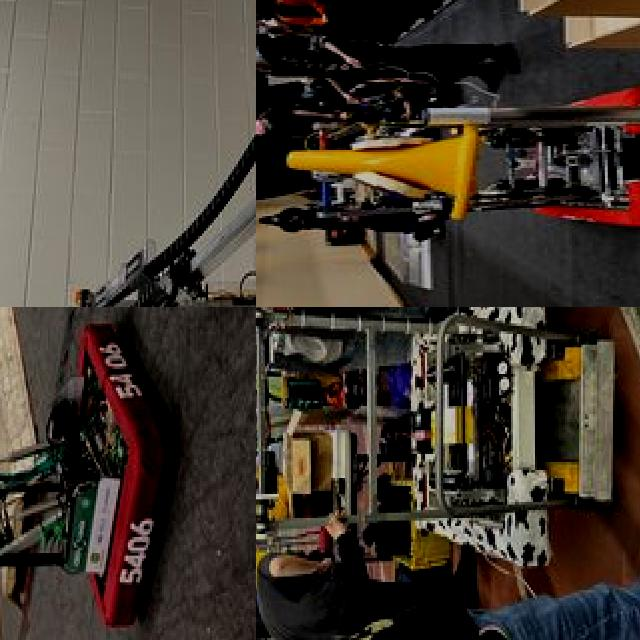FRC-Robots: (256, 307, 563, 571), (6, 11, 256, 307), (283, 78, 640, 245), (0, 307, 173, 640)
